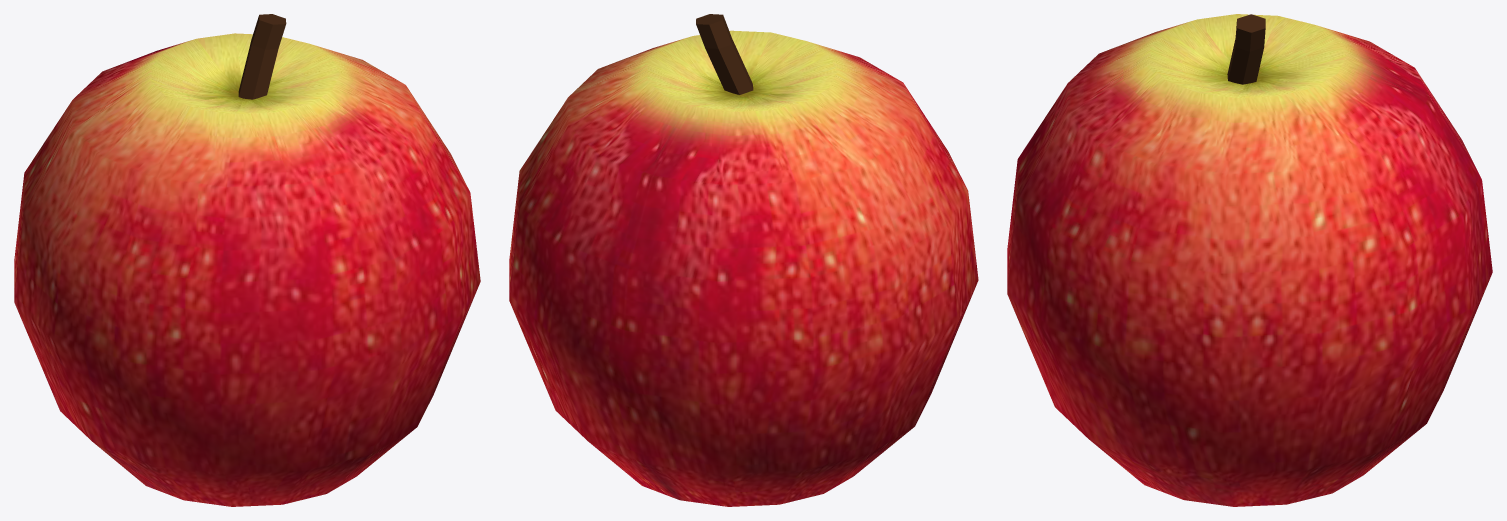
File: Apple_mesh.FBX
The picture shows the model from 3 angles, left to right: view 1: azimuth 30°, elevation 25°; view 2: azimuth 150°, elevation 25°; view 3: azimuth 270°, elevation 25°; orthographic projection. The views are drawn at different scales.
Parts seen in each view (by area): view 1: Apple; view 2: Apple; view 3: Apple.
Boxes of the visible parts, x1,y1,x2,y2 form: Apple: [14, 14, 480, 506]; Apple: [509, 14, 978, 506]; Apple: [1007, 14, 1492, 506].
Size of the model in its own units: 17.03 by 17.58 by 16.93.
Materials: 1 (1 with a texture image).
